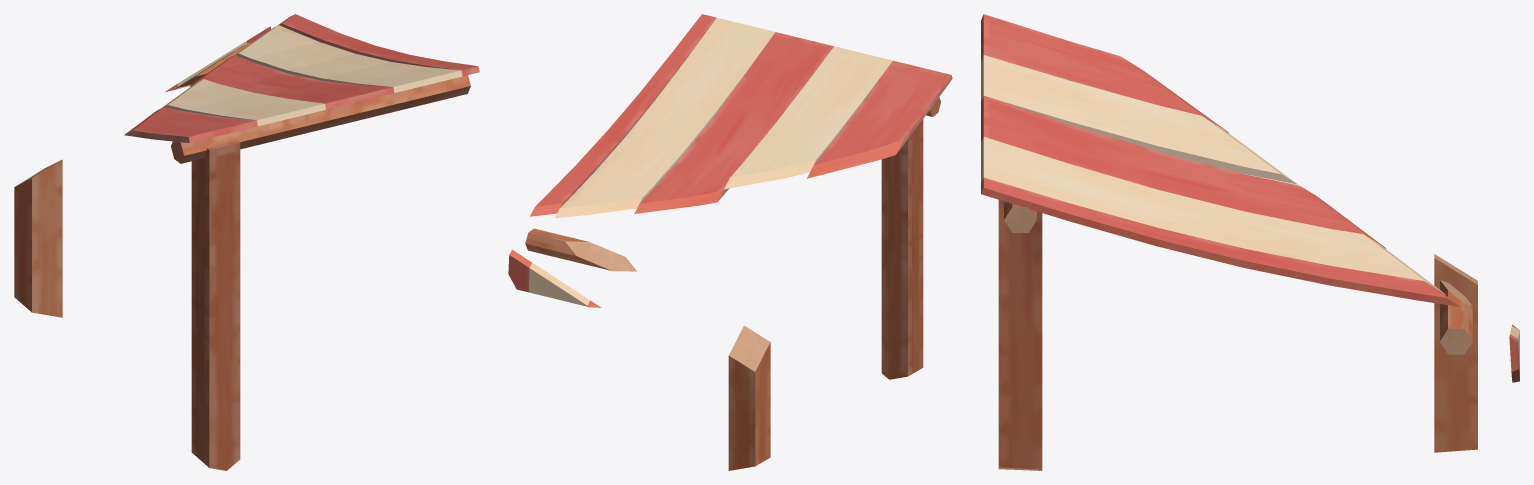
File: stall_s01.fbx
3 renders of one model, left to right at view 1: azimuth 30°, elevation 25°; view 2: azimuth 150°, elevation 25°; view 3: azimuth 270°, elevation 25°, orthographic. The views are drawn at different scales.
Visible parts, largest first — view 1: stall_s01; view 2: stall_s01; view 3: stall_s01.
Boxes of the visible parts, x1=… form: stall_s01: x1=14, y1=14, x2=479, y2=470; stall_s01: x1=508, y1=14, x2=952, y2=470; stall_s01: x1=981, y1=14, x2=1519, y2=470.
Bounding box in the file's own units: 3.86 × 4.34 × 4.95.
